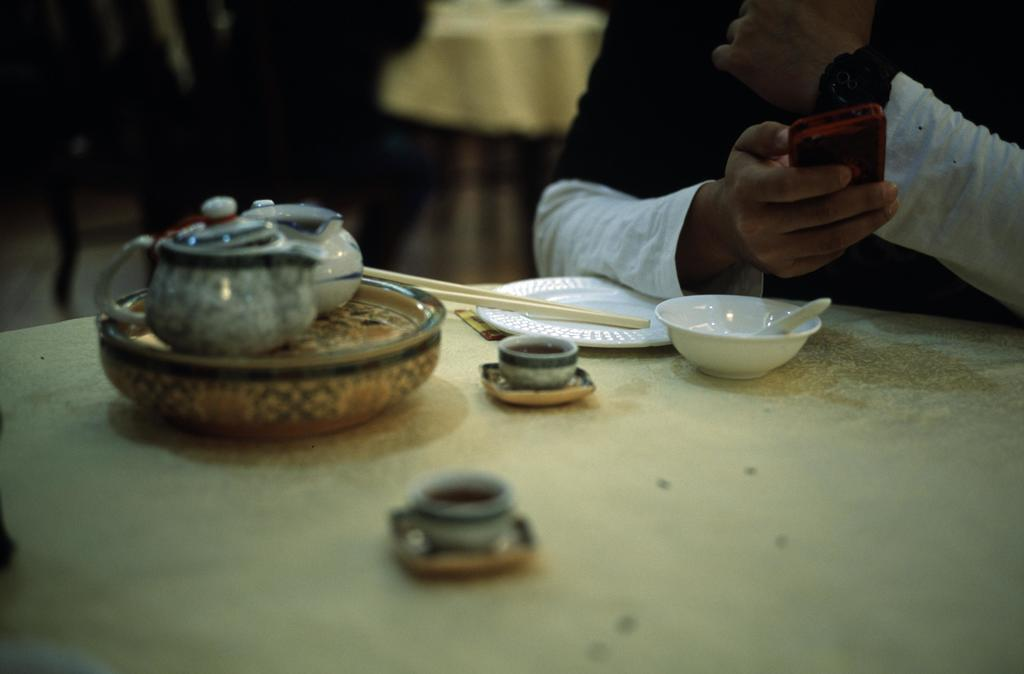plate: (476, 274, 669, 348)
